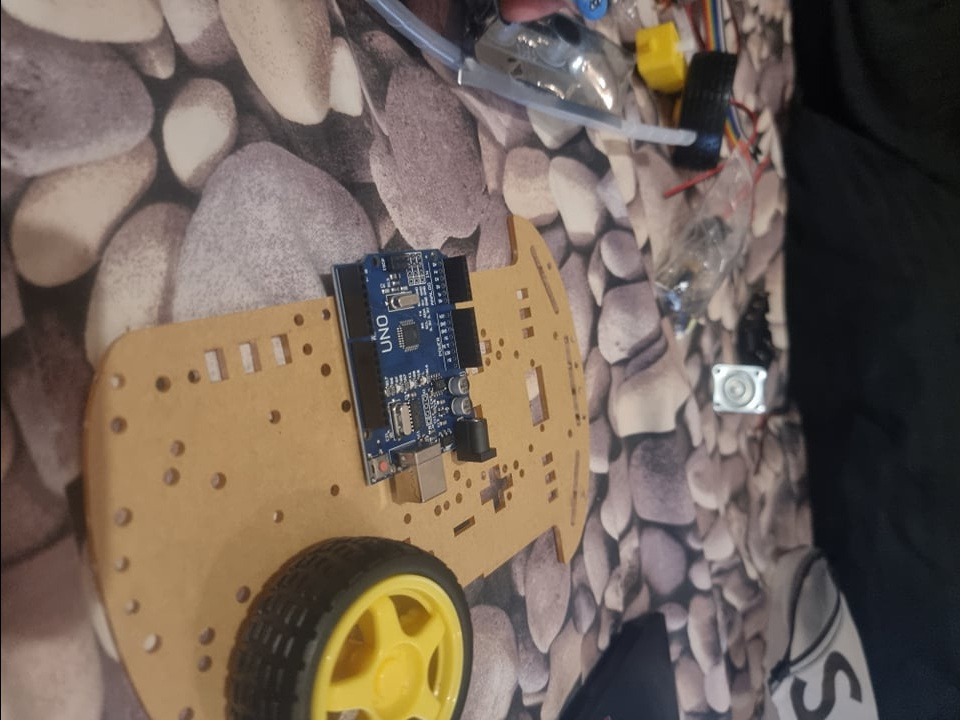BATTERY BOX: (733, 283, 780, 371)
UNO R3: (326, 230, 494, 505)
